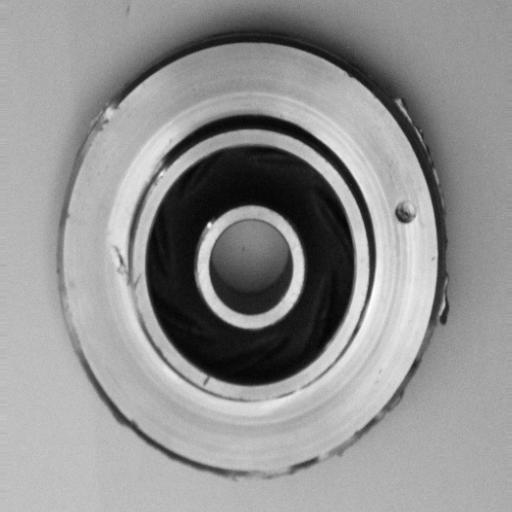casting_with_burr: (53, 29, 453, 484)
crack: (104, 239, 147, 304)
pit: (387, 191, 423, 235)
